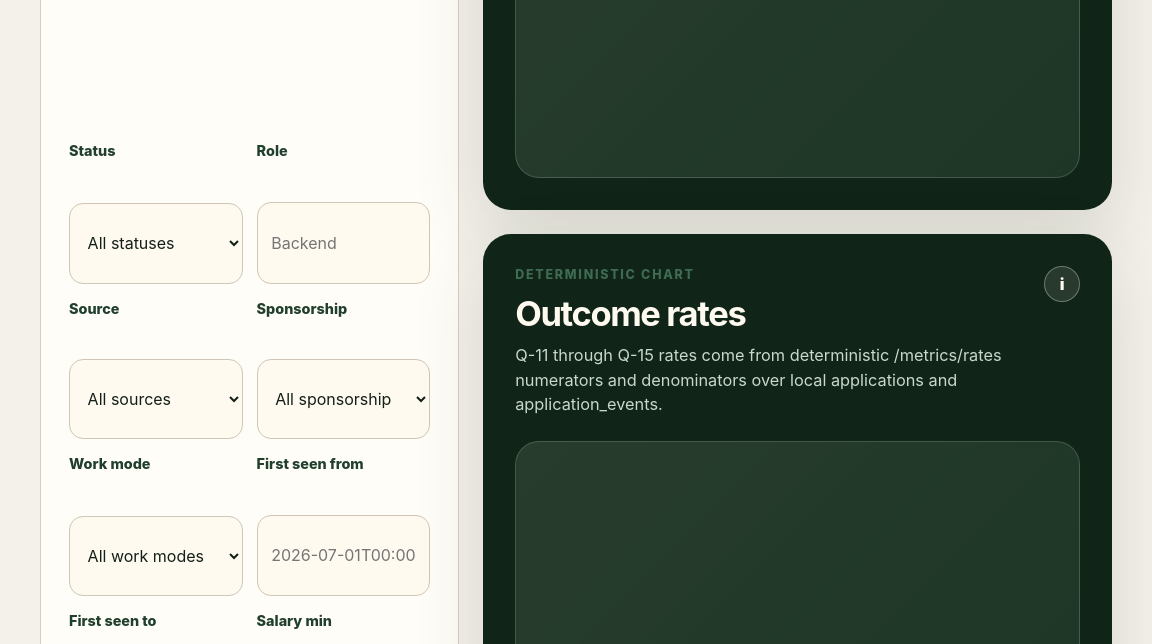
it: DashboardPage › explains the outcome rates chart through an accessible info control
The image size is (1152, 644).
(page scrolled)
Step 1. Click the button named "About Outcome rates" → (1062,284), box [1044,266,1080,302]
(page scrolled)
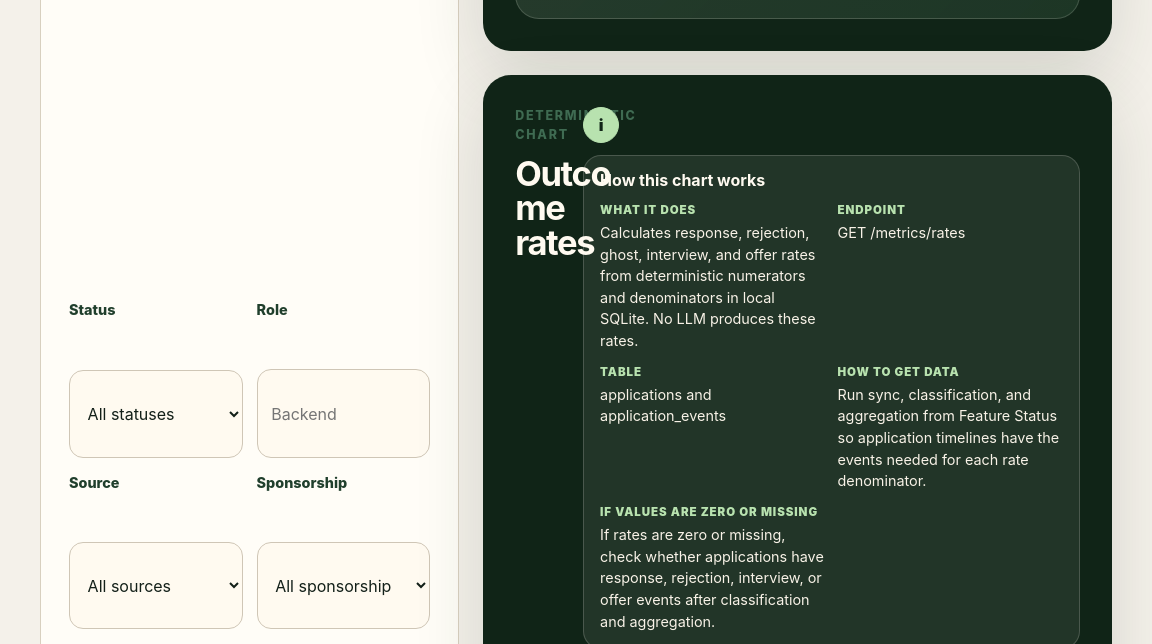
Now the button named "About Outcome rates" is expanded, box [583,107,619,143]
Now the heading "How this chart works" is shown, box [600,170,765,190]
Now the text "GET /metrics/rates" is shown, box [838,224,965,241]
